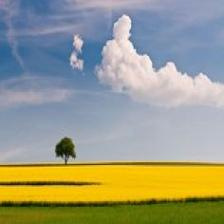yellow: (0, 164, 224, 205)
